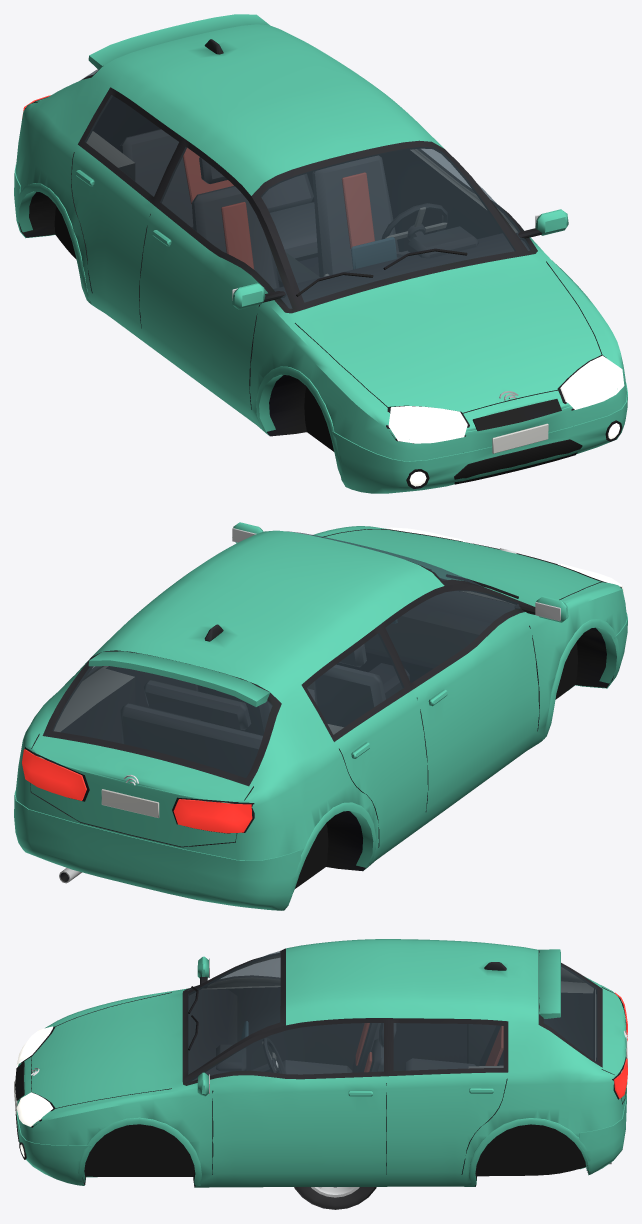
3 views of the same model, one above another, from view 1: azimuth 30°, elevation 25°; view 2: azimuth 150°, elevation 25°; view 3: azimuth 270°, elevation 25° (orthographic). The views are drawn at different scales.
Parts seen in each view (by area): view 1: body, glass, interior, bumper_f, lights_head, steering_wheel; view 2: body, glass, interior, bumper_r, lights_tail, lights_head; view 3: body, glass, interior, bumper_f, bumper_r, lights_head, wheel, lights_tail, steering_wheel.
Part boxes in pixels (x1,y1,x2,y2): body: (15,14,626,475); glass: (81,69,531,308); interior: (85,95,531,308); bumper_f: (330,383,627,493); lights_head: (386,355,624,443); steering_wheel: (382,203,447,257); body: (15,522,626,893); glass: (52,531,520,777); interior: (52,579,517,777); bumper_r: (14,790,301,910); lights_tail: (22,747,254,833); lights_head: (388,527,624,591); body: (15,939,627,1187); glass: (188,951,597,1082); interior: (188,953,597,1082); bumper_f: (14,1081,97,1185); bumper_r: (579,1082,627,1175); lights_head: (16,1026,55,1127); wheel: (294,1187,376,1209); lights_tail: (612,992,627,1099); steering_wheel: (262,1038,286,1073).
Size of what is drawn, in the model's own units: 1.99 by 1.77 by 4.05.
